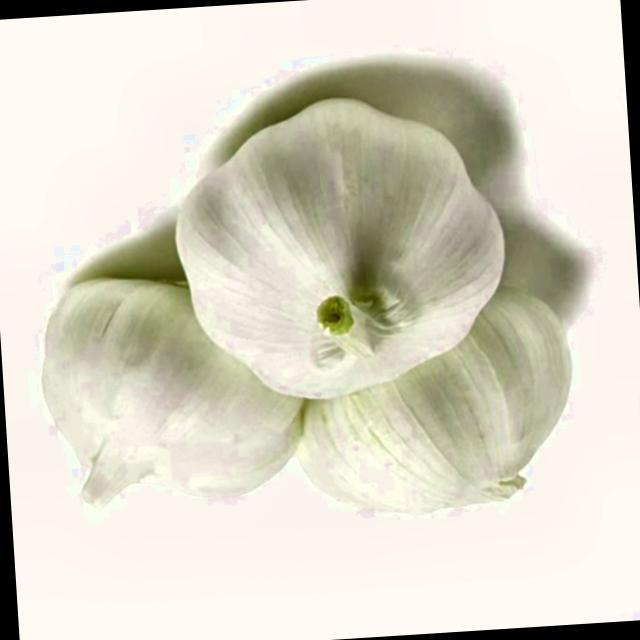garlic: (176, 99, 505, 398), (298, 288, 570, 512), (42, 275, 304, 503)
